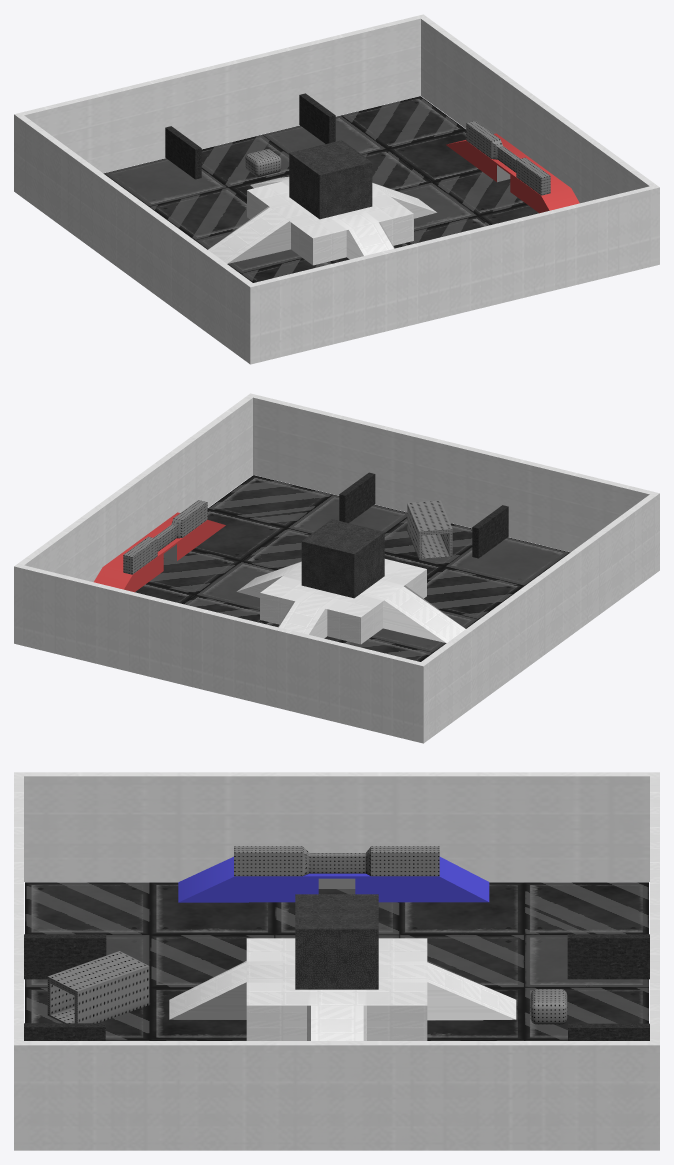
The model's file is Arena.fbx.
3 renders of one model, top to bottom at view 1: azimuth 30°, elevation 25°; view 2: azimuth 150°, elevation 25°; view 3: azimuth 270°, elevation 25°, orthographic. The views are drawn at different scales.
Visible parts, largest first — view 1: Выдавливание, earth, Куб_6, Куб_1_4, Куб_1_3, Куб_4, Куб, Куб_3, box_1; view 2: Выдавливание, earth, Куб_6, Куб_1_4, Куб_1_3, container, Куб_4, Куб_1, Куб_2; view 3: Выдавливание, earth, Куб_6, Куб_1_2, Куб_1_4, container, Куб_2_2, Куб, Куб_1, Куб_3, Куб_2, box_1.
Part boxes in pixels (box(x1,y1,x2,y2)): Выдавливание: box(14, 14, 659, 364); earth: box(103, 96, 538, 282); Куб_6: box(208, 176, 436, 265); Куб_1_4: box(289, 140, 372, 219); Куб_1_3: box(446, 133, 579, 213); Куб_4: box(466, 121, 550, 195); Куб: box(165, 126, 201, 179); Куб_3: box(299, 93, 335, 143); box_1: box(245, 149, 281, 176); Выдавливание: box(14, 393, 659, 743); earth: box(135, 475, 570, 661); Куб_6: box(236, 559, 465, 644); Куб_1_4: box(301, 519, 384, 598); Куб_1_3: box(94, 512, 225, 592); container: box(407, 500, 452, 559); Куб_4: box(123, 500, 207, 574); Куб_1: box(472, 505, 508, 558); Куб_2: box(339, 472, 375, 522); Выдавливание: box(14, 772, 659, 1150); earth: box(25, 882, 648, 1040); Куб_6: box(169, 938, 516, 1040); Куб_1_2: box(178, 856, 489, 902); Куб_1_4: box(295, 894, 378, 989); container: box(47, 951, 149, 1023); Куб_2_2: box(234, 846, 439, 876); Куб: box(567, 934, 649, 979); Куб_1: box(24, 934, 106, 979); Куб_3: box(568, 1023, 649, 1040); Куб_2: box(24, 1023, 105, 1040); box_1: box(530, 989, 567, 1024).
Size of the model in its own units: 1554 by 335 by 1554.
16 materials, 16 textured.
